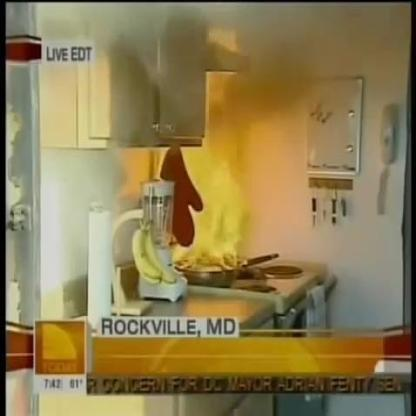fire: (160, 26, 252, 273)
